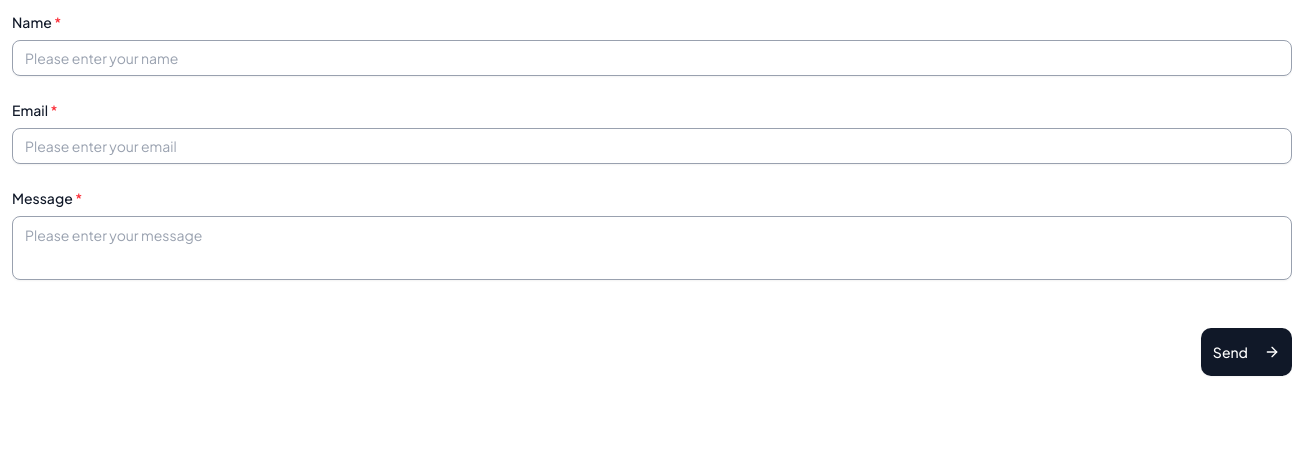
Test: ContactForm › shows error message when submission fails
This screenshot has width=1304, height=463.
In the field labelled "Name *": x=652, y=58 left=12, top=40, right=1292, bottom=76, type "Jane Doe"
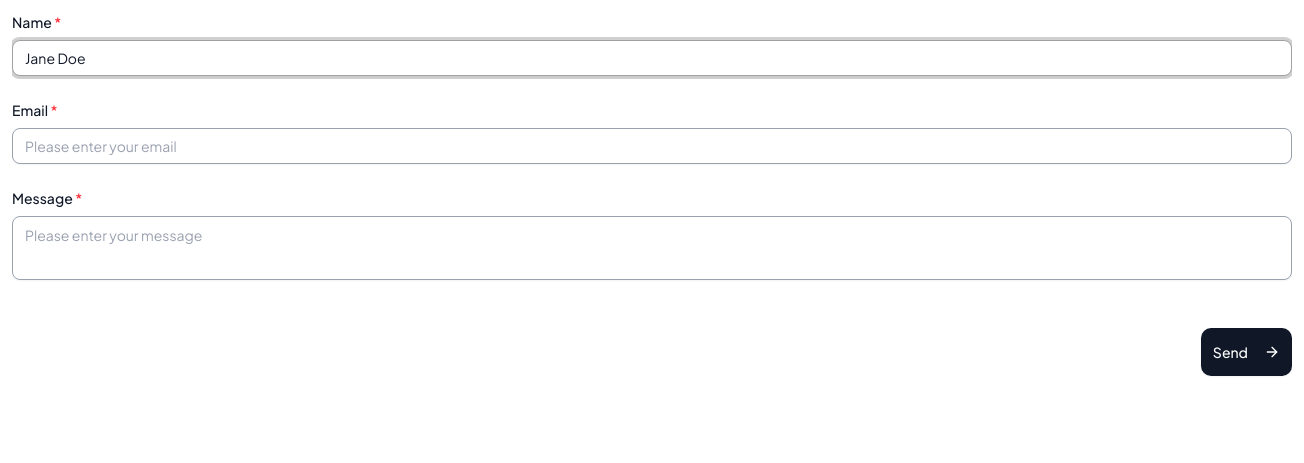
In the field labelled "Email *": x=652, y=146 left=12, top=128, right=1292, bottom=164, type "jane@example.com"
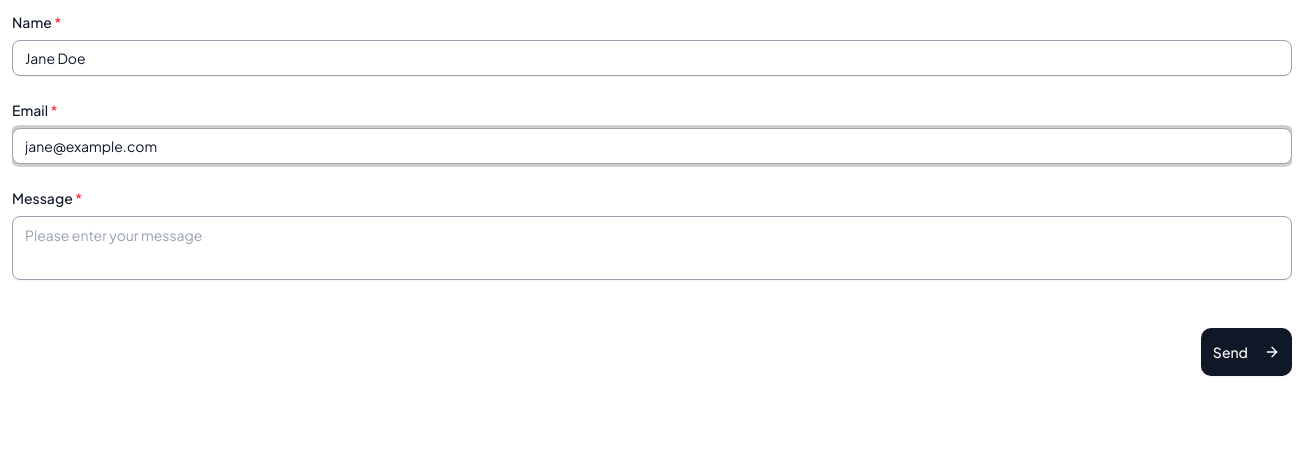
In the text box labelled "Message *": x=652, y=248 left=12, top=216, right=1292, bottom=280, type "Hello!"
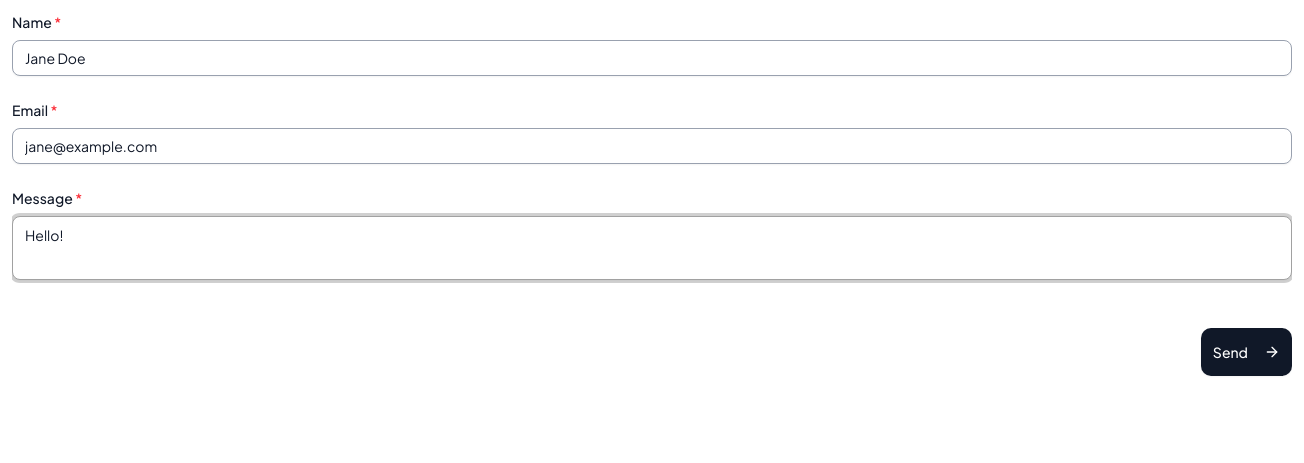
Submit the form "Name * Email * Message * Send"
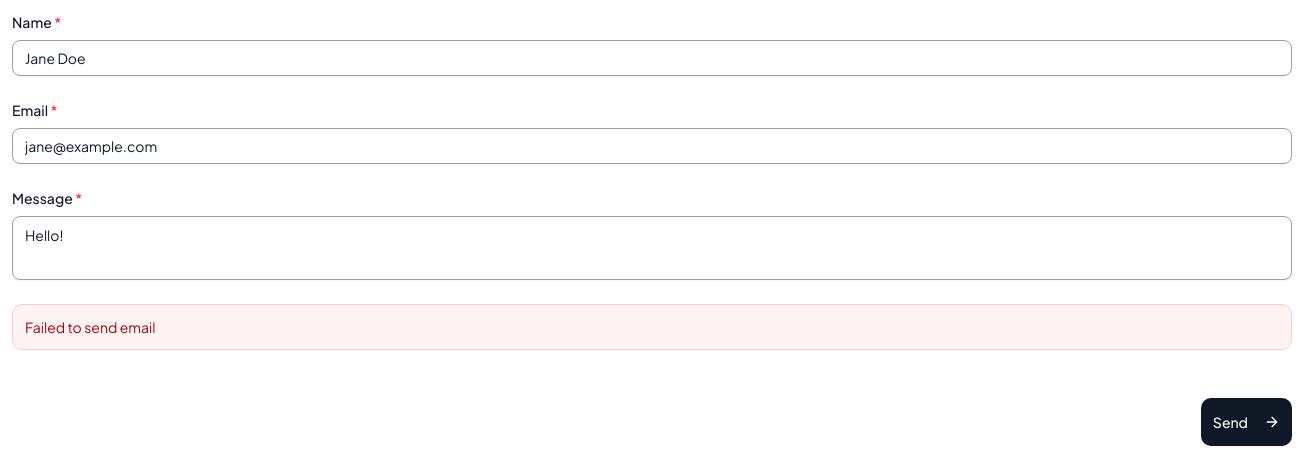
expect the text "Failed to send email" is shown: met, box left=25, top=318, right=155, bottom=336
